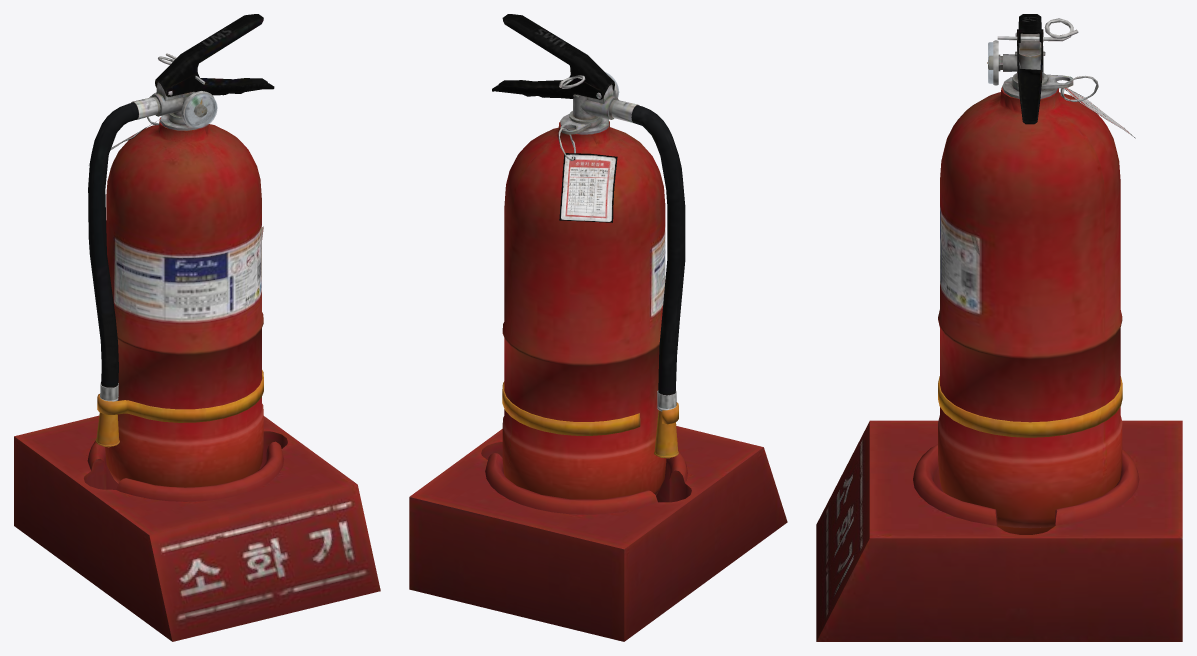
File: korean_fire_extinguisher_01.glb
The picture shows the model from 3 angles, left to right: view 1: azimuth 30°, elevation 25°; view 2: azimuth 150°, elevation 25°; view 3: azimuth 270°, elevation 25°; orthographic projection. The views are drawn at different scales.
Parts seen in each view (by area): view 1: korean_fire_extinguisher_01; view 2: korean_fire_extinguisher_01; view 3: korean_fire_extinguisher_01.
Boxes of the visible parts, x1,y1,x2,y2 form: korean_fire_extinguisher_01: (14, 14, 380, 641); korean_fire_extinguisher_01: (409, 14, 787, 641); korean_fire_extinguisher_01: (816, 14, 1182, 641).
Bounding box in the file's own units: 0.279 × 0.6591 × 0.3674.
Materials: 3 (3 with a texture image).
